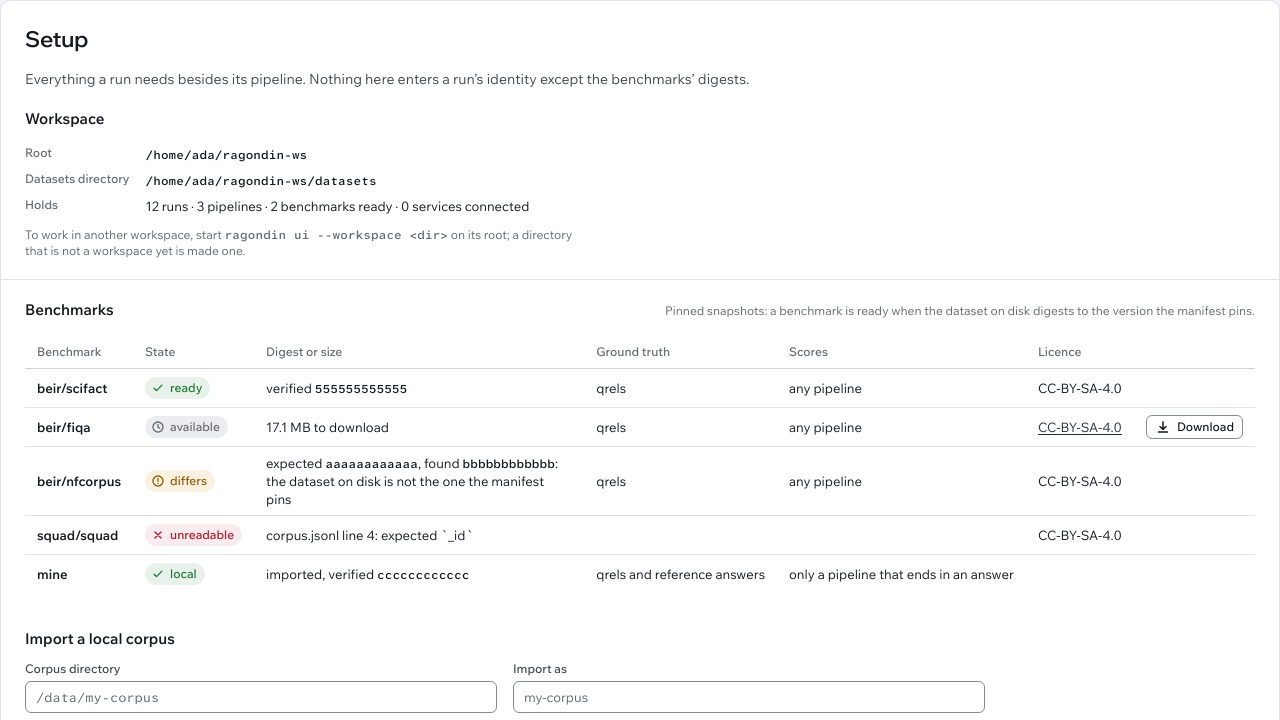
Scenario: the benchmarks › import shows the adapter error inline or adds a local row
This screenshot has width=1280, height=720.
Expected: the text "beir/scifact" is shown, [37,380,107,396]
Type "/data/notes" into the field labelled "Corpus directory" at (261, 697), box [25,681,497,713]
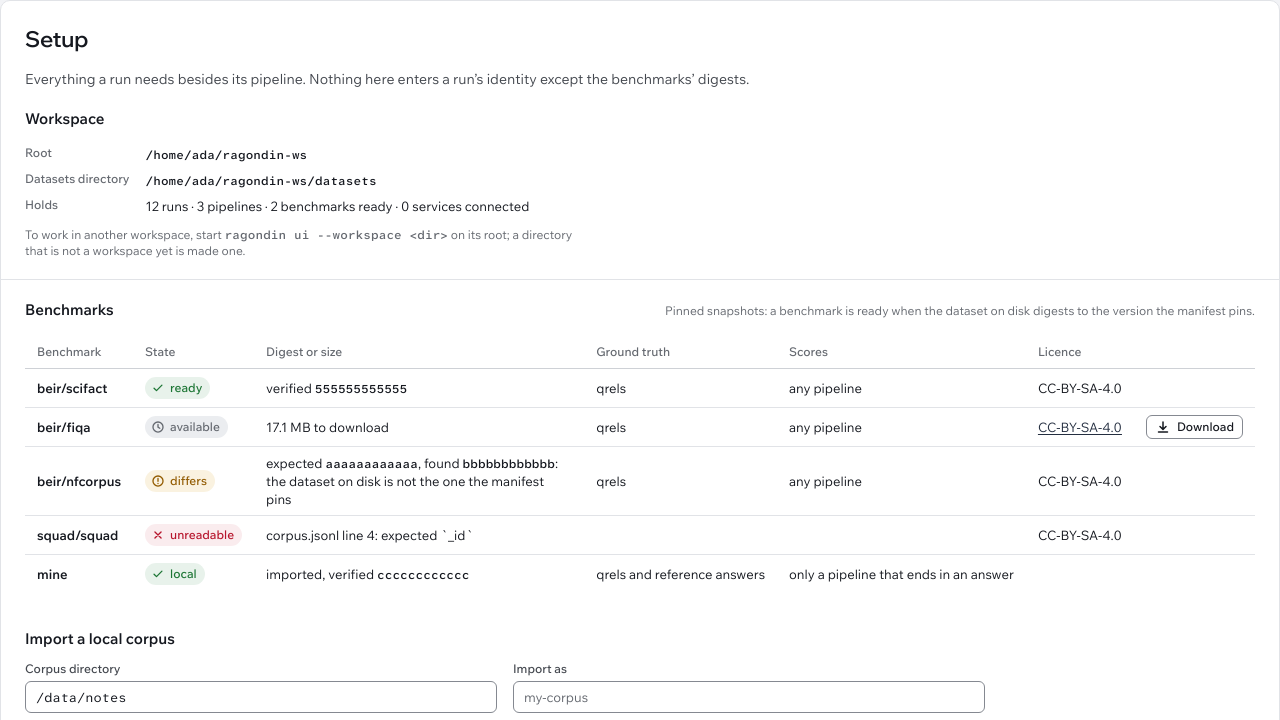
Type "notes" into the field labelled "Import as" at (749, 697), box [513,681,985,713]
(page scrolled)
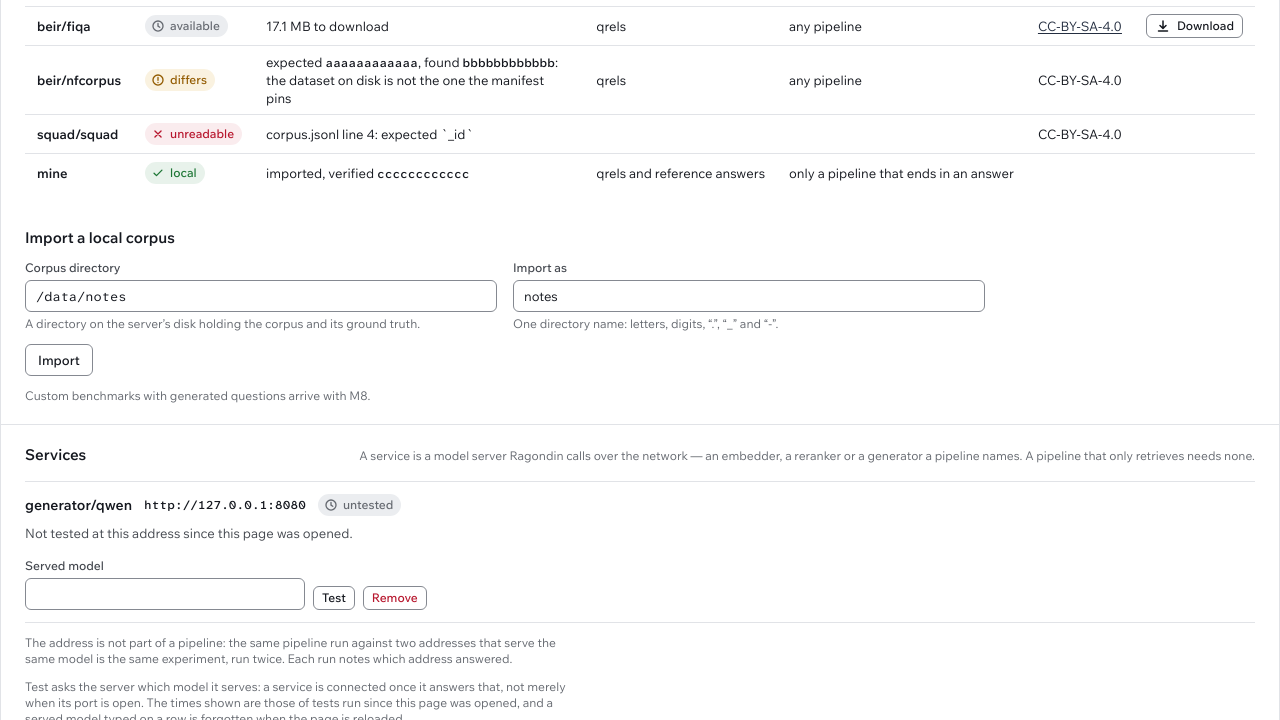
Click the button "Import" at (59, 360), box [25,344,93,376]
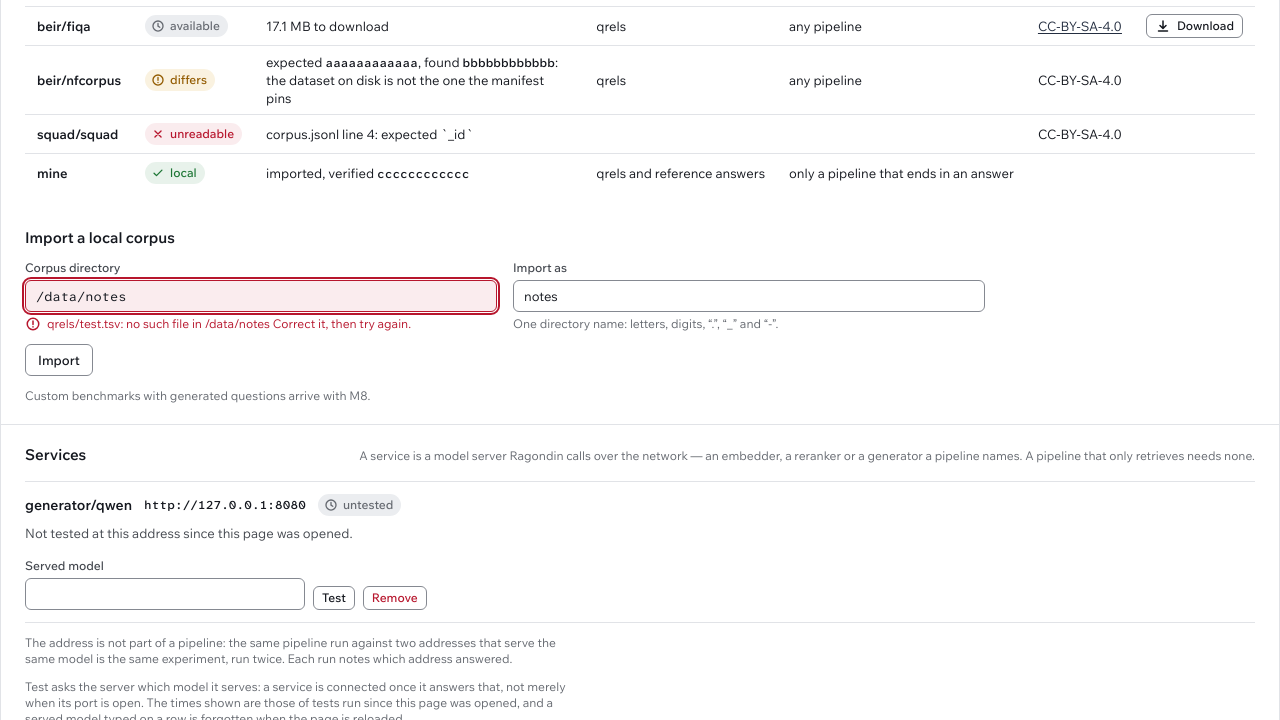
Click the button "Import" at (59, 360), box [25,344,93,376]
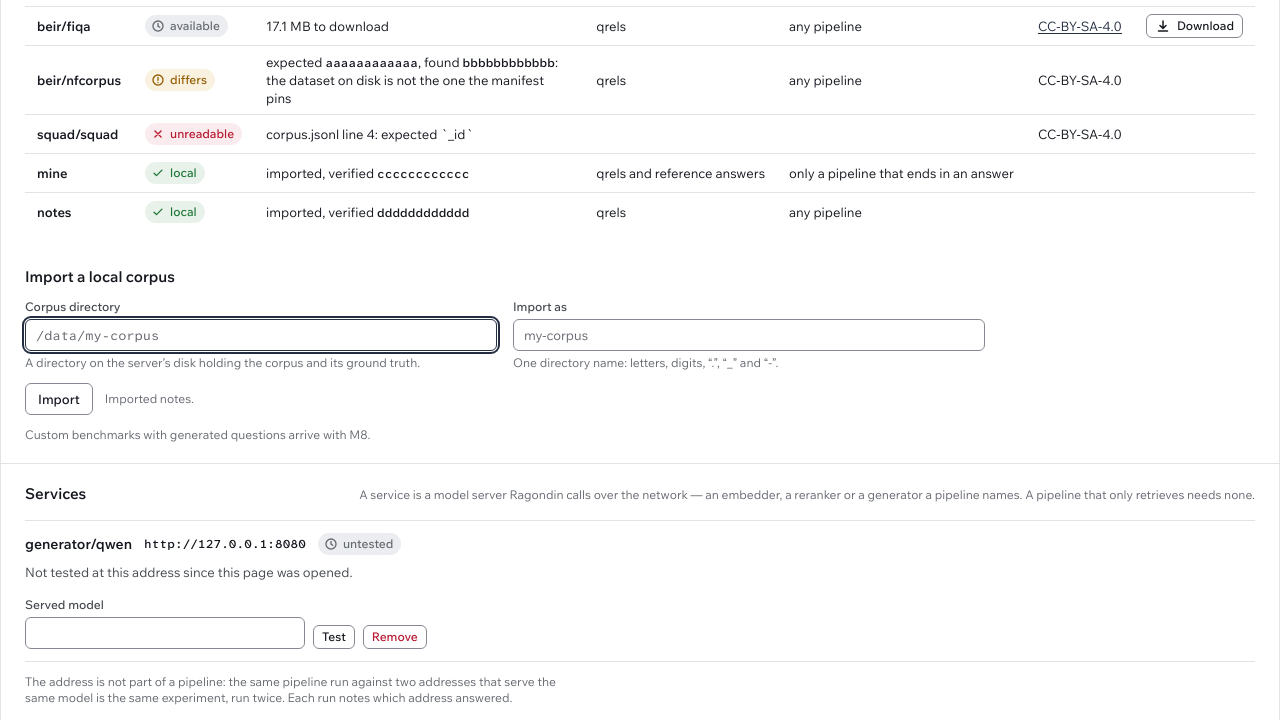
Result: the text "notes" is shown at [37,204,72,220]
Result: the 2nd text "local" is shown at [145,201,205,223]
